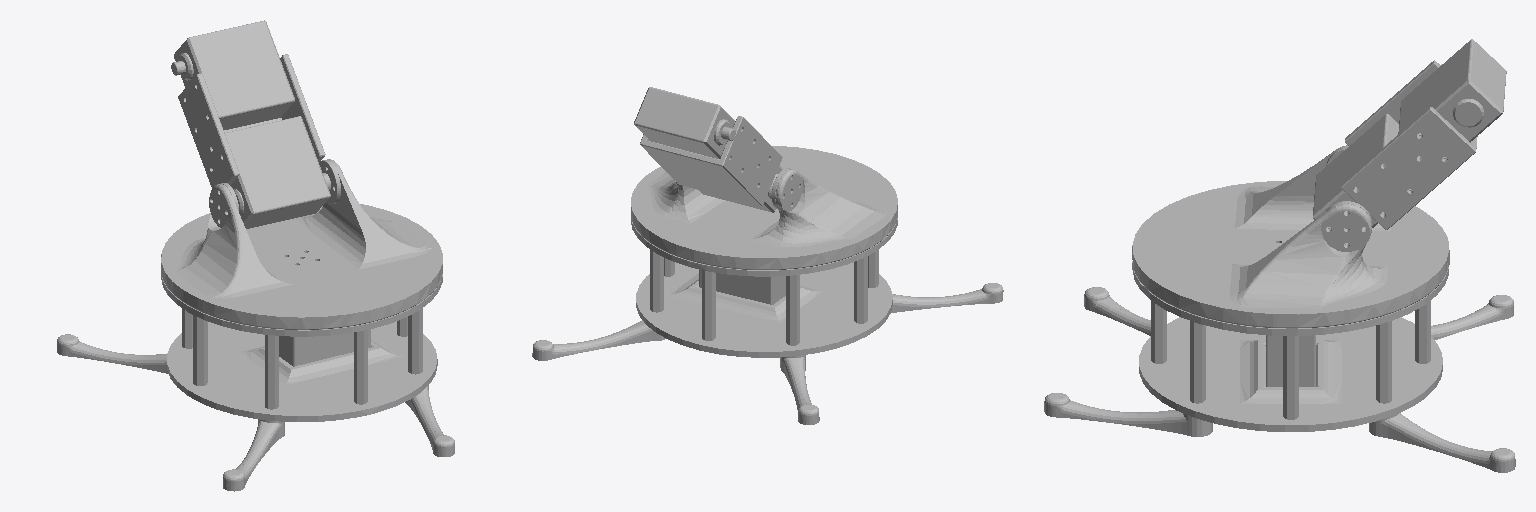
URDF robot description (final):
<robot
  name="final">
  <link
    name="base_link">
    <inertial>
      <origin
        xyz="0.0022921 0.03082 2.0021E-05"
        rpy="0 0 0" />
      <mass
        value="0.12487" />
      <inertia
        ixx="0.00016623"
        ixy="-2.8419E-06"
        ixz="4.3114E-06"
        iyy="0.00022999"
        iyz="7.0582E-08"
        izz="0.00016085" />
    </inertial>
    <visual>
      <origin
        xyz="0 0 0"
        rpy="0 0 0" />
      <geometry>
        <mesh
          filename="package://final/meshes/base_link.STL" />
      </geometry>
      <material
        name="">
        <color
          rgba="0.75294 0.75294 0.75294 1" />
      </material>
    </visual>
    <collision>
      <origin
        xyz="0 0 0"
        rpy="0 0 0" />
      <geometry>
        <mesh
          filename="package://final/meshes/base_link.STL" />
      </geometry>
    </collision>
  </link>
  <link
    name="schulter">
    <inertial>
      <origin
        xyz="-0.0031447 0.0091895 3.9312E-05"
        rpy="0 0 0" />
      <mass
        value="0.06271" />
      <inertia
        ixx="6.8321E-05"
        ixy="2.0548E-06"
        ixz="4.8842E-08"
        iyy="0.00011472"
        iyz="-5.1134E-08"
        izz="5.143E-05" />
    </inertial>
    <visual>
      <origin
        xyz="0 0 0"
        rpy="0 0 0" />
      <geometry>
        <mesh
          filename="package://final/meshes/schulter.STL" />
      </geometry>
      <material
        name="">
        <color
          rgba="0.75294 0.75294 0.75294 1" />
      </material>
    </visual>
    <collision>
      <origin
        xyz="0 0 0"
        rpy="0 0 0" />
      <geometry>
        <mesh
          filename="package://final/meshes/schulter.STL" />
      </geometry>
    </collision>
  </link>
  <joint
    name="sockel_rot"
    type="continuous">
    <origin
      xyz="0 0 0.0546"
      rpy="1.5708 -8.0214E-17 -1.6044" />
    <parent
      link="base_link" />
    <child
      link="schulter" />
    <axis
      xyz="0 1 0" />
  </joint>
  <link
    name="oberarm">
    <inertial>
      <origin
        xyz="-0.0335 -0.00097218 0.0001"
        rpy="0 0 0" />
      <mass
        value="0.078007" />
      <inertia
        ixx="1.647E-05"
        ixy="-2.9427E-14"
        ixz="2.6776E-07"
        iyy="6.0711E-05"
        iyz="1.5679E-14"
        izz="5.0891E-05" />
    </inertial>
    <visual>
      <origin
        xyz="0 0 0"
        rpy="0 0 0" />
      <geometry>
        <mesh
          filename="package://final/meshes/oberarm.STL" />
      </geometry>
      <material
        name="">
        <color
          rgba="0.75294 0.75294 0.75294 1" />
      </material>
    </visual>
    <collision>
      <origin
        xyz="0 0 0"
        rpy="0 0 0" />
      <geometry>
        <mesh
          filename="package://final/meshes/oberarm.STL" />
      </geometry>
    </collision>
  </link>
  <joint
    name="schulter_turn"
    type="continuous">
    <origin
      xyz="-0.022924 0.029878 0"
      rpy="4.368E-15 -3.976E-15 -0.77732" />
    <parent
      link="schulter" />
    <child
      link="oberarm" />
    <axis
      xyz="0 0 -1" />
    <limit
      effort="0"
      velocity="0" />
  </joint>
</robot>

--- Facts derived from the render (not from the file) ---
3 views of the same robot in one strip: view 1: azimuth 30°, elevation 25°; view 2: azimuth 150°, elevation 25°; view 3: azimuth 270°, elevation 25° (orthographic).
Model final with 3 links and 2 joints (2 continuous), rooted at base_link, posed every joint at zero.
Visible links, largest first — view 1: schulter, base_link, oberarm; view 2: base_link, schulter, oberarm; view 3: base_link, schulter, oberarm.
Boxes of the visible links, x1=… form: schulter: x1=161, y1=159, x2=442, y2=329; base_link: x1=57, y1=274, x2=454, y2=491; oberarm: x1=171, y1=20, x2=330, y2=228; base_link: x1=532, y1=218, x2=1003, y2=424; schulter: x1=631, y1=146, x2=897, y2=269; oberarm: x1=634, y1=87, x2=782, y2=212; base_link: x1=1044, y1=261, x2=1515, y2=472; schulter: x1=1132, y1=145, x2=1449, y2=328; oberarm: x1=1313, y1=39, x2=1506, y2=229.
Size in the robot's own frame: 0.1602 by 0.1856 by 0.1452 metres.
3 mesh visuals loaded from 3 distinct referenced files (3 binary STL).